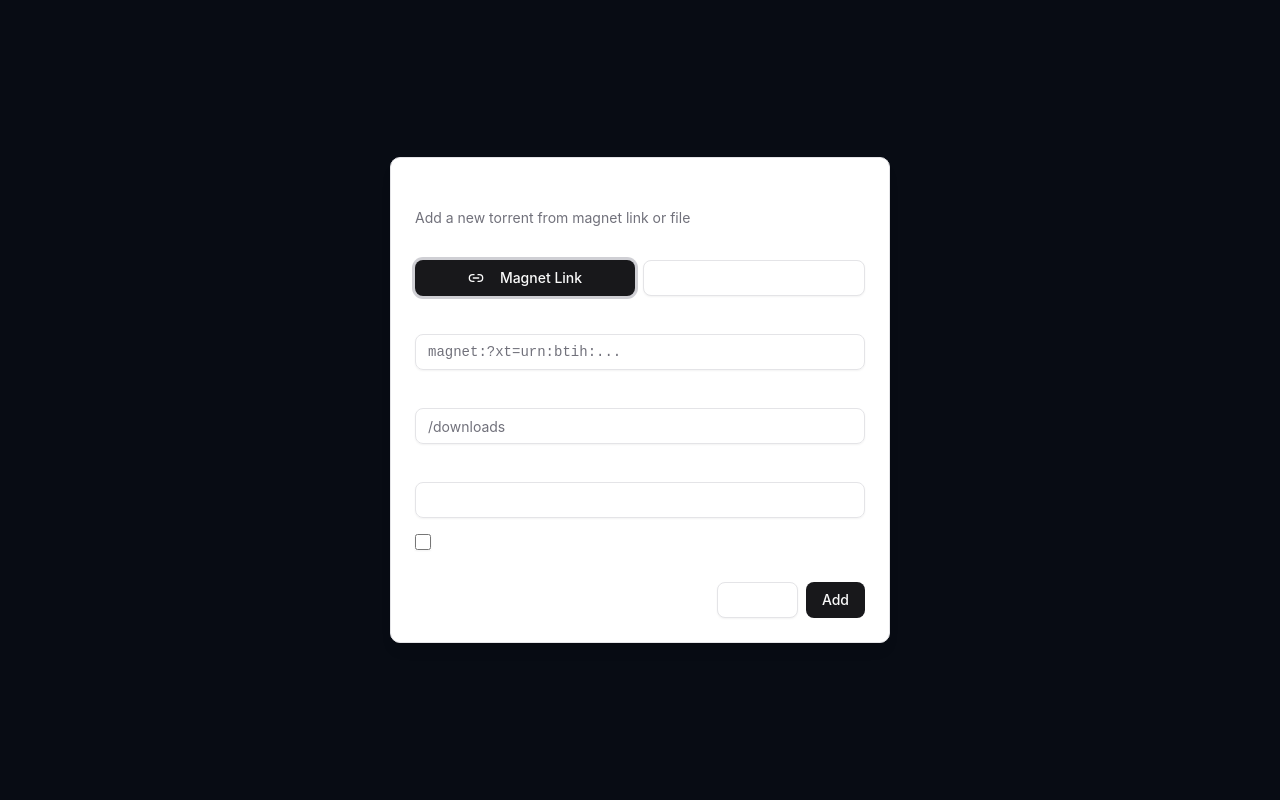
Test: AddTorrentModal Component › Tab Switching › switches back to magnet tab when magnet tab button is clicked
What coordinates should you click on to do the following:
click the button "Torrent File"
I would click on:
 (754, 278)
Its box is [643,260,865,296].
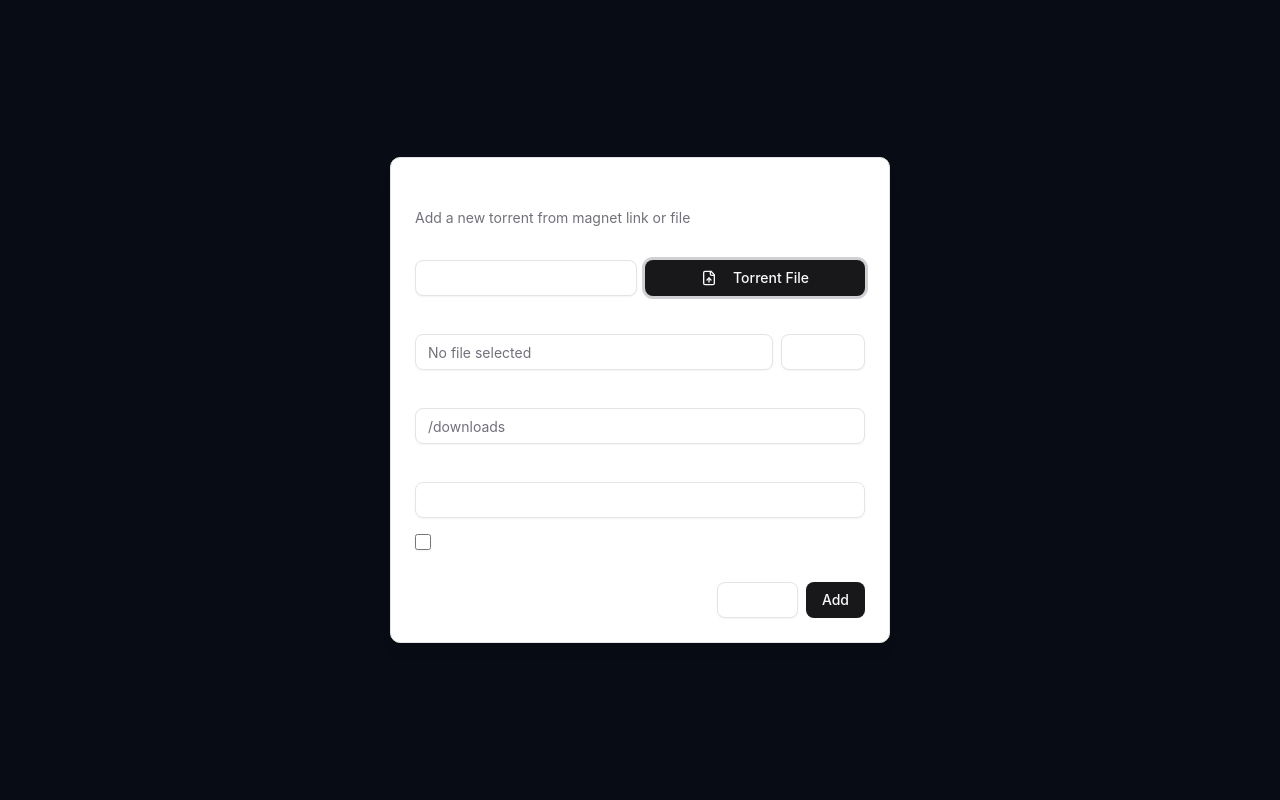
Expected: the field with placeholder "No file selected" is shown, [415,334,773,370]
What coordinates should you click on to do the following:
click the button "Magnet Link"
I would click on:
 (526, 278)
Its box is [415,260,637,296].
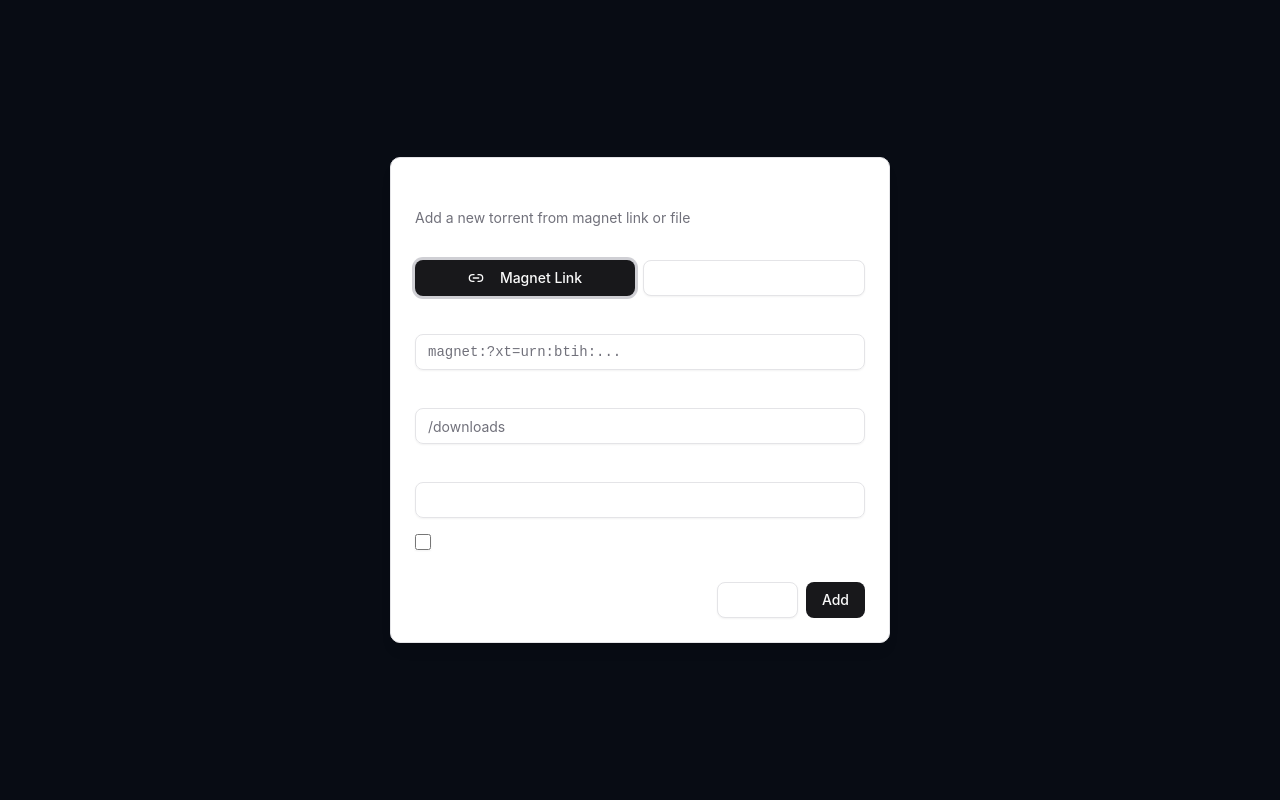
Expected: the field labelled "Magnet Link" is shown, [415,334,865,370]
